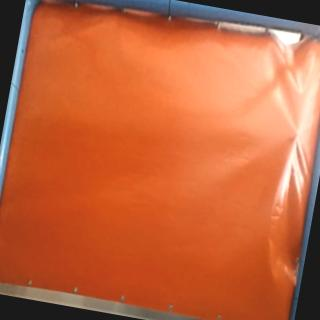Hit-hRxx: (288, 127, 306, 146)
